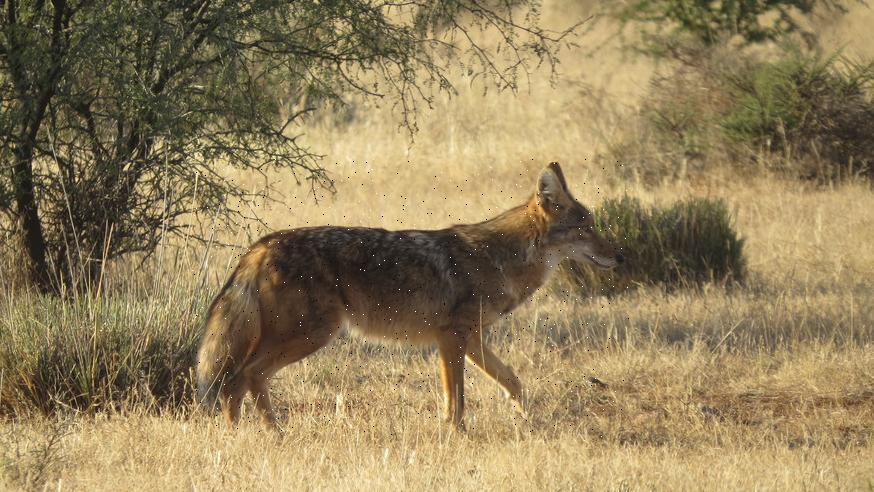Coyote: (192, 160, 629, 438)
